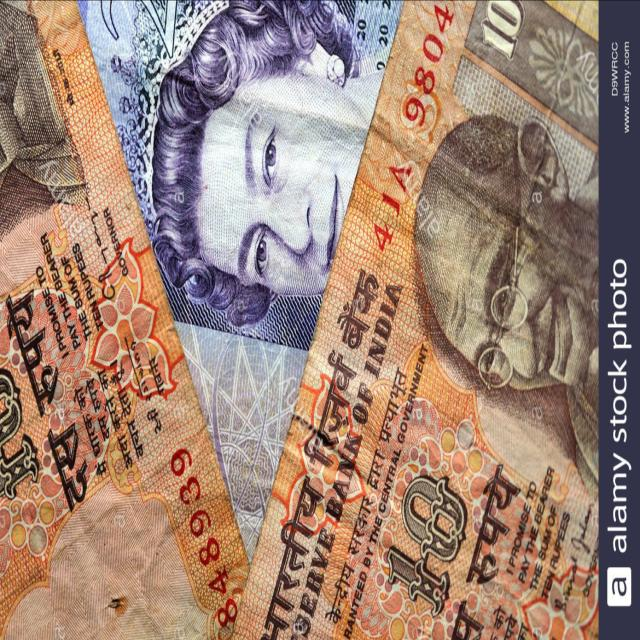10IndianRupees: (235, 0, 596, 640)
